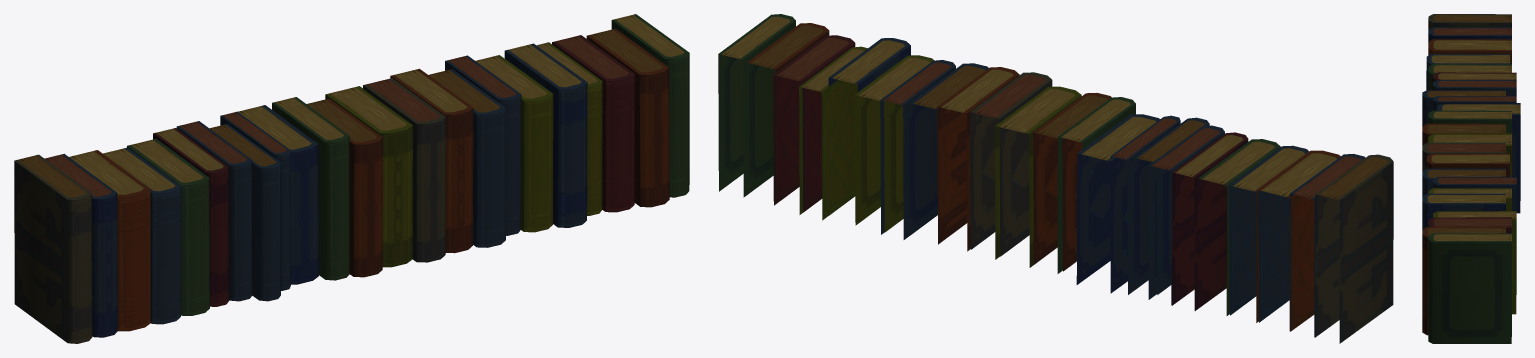
File: BookGroup_Large_3.gltf
3 renders of one model, left to right at view 1: azimuth 30°, elevation 25°; view 2: azimuth 150°, elevation 25°; view 3: azimuth 270°, elevation 25°, orthographic. The views are drawn at different scales.
Parts seen in each view (by area): view 1: BookGroup_Large_3; view 2: BookGroup_Large_3; view 3: BookGroup_Large_3.
Part boxes in pixels (x1,y1,x2,y2): BookGroup_Large_3: (14,14,689,343); BookGroup_Large_3: (718,14,1393,343); BookGroup_Large_3: (1422,14,1520,343).
Size of the model in its own units: 1.33 by 0.2949 by 0.2475.
1 material, 1 textured.
